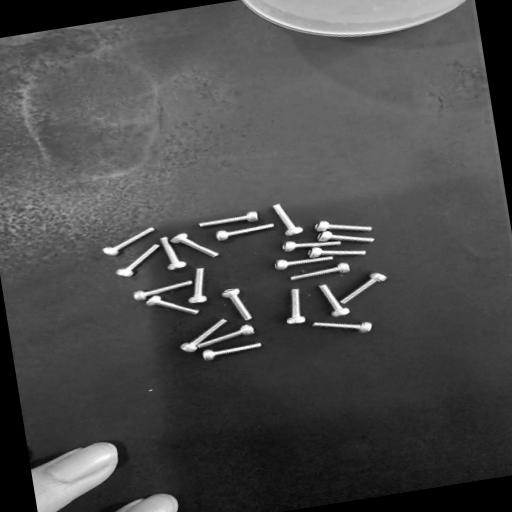Bolt: (103, 227, 155, 256), (181, 319, 226, 352), (340, 273, 386, 304), (116, 245, 159, 277), (198, 325, 254, 348), (134, 281, 192, 301), (171, 233, 218, 256), (291, 263, 350, 280), (319, 284, 349, 317), (216, 224, 274, 241), (203, 343, 261, 360), (222, 288, 252, 320), (273, 204, 303, 236), (200, 211, 258, 227), (147, 296, 198, 314), (317, 231, 374, 246), (161, 237, 186, 270), (275, 256, 333, 270), (283, 241, 341, 252), (189, 268, 207, 303), (287, 289, 305, 324), (309, 248, 365, 259), (313, 322, 372, 332), (315, 221, 372, 231)
